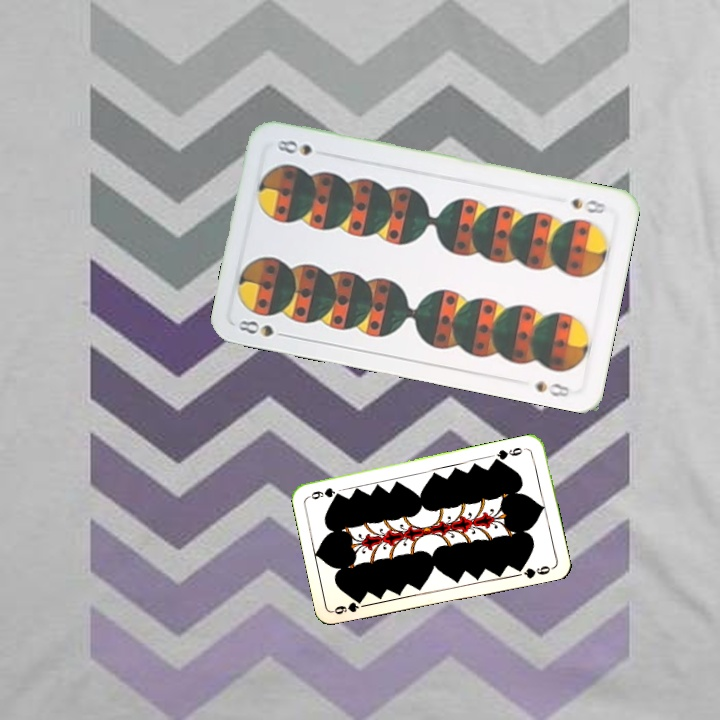G9: (491, 443, 530, 464), (330, 596, 365, 617)
S8: (234, 316, 293, 340), (567, 194, 610, 217)
